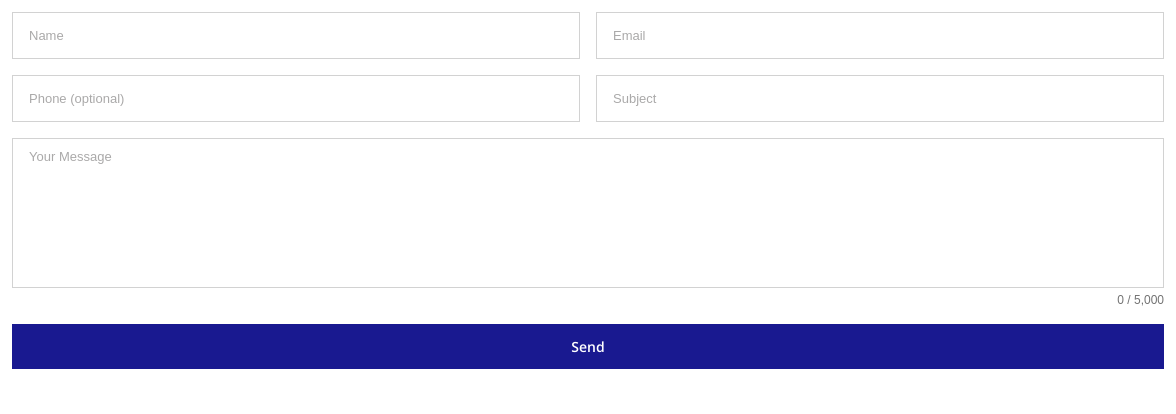
ContactForm › shows the email field message from a 400 response and keeps the typed values
This screenshot has width=1176, height=414.
Type "Ali Khan" into the field labelled "Name". click: (296, 36)
box: [12,12,580,59]
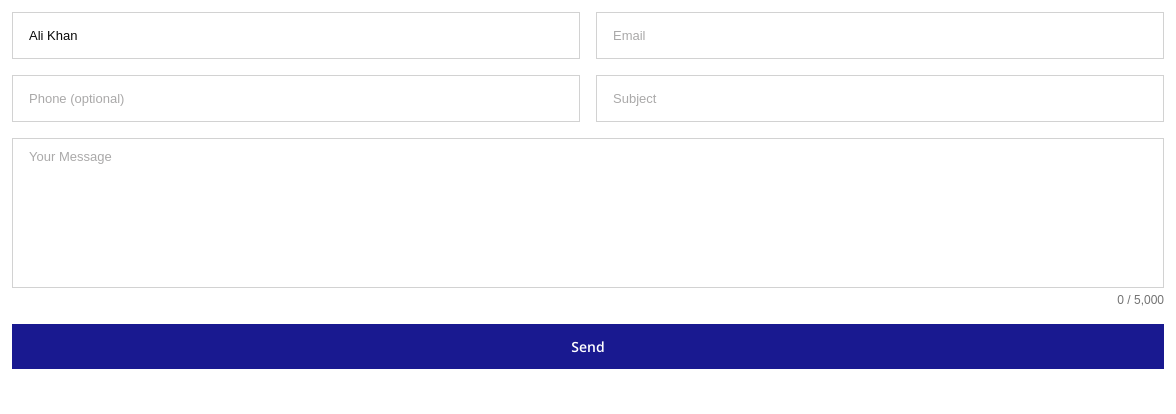
Type "ali@example.com" into the field labelled "Email". click: (880, 36)
box: [596,12,1164,59]
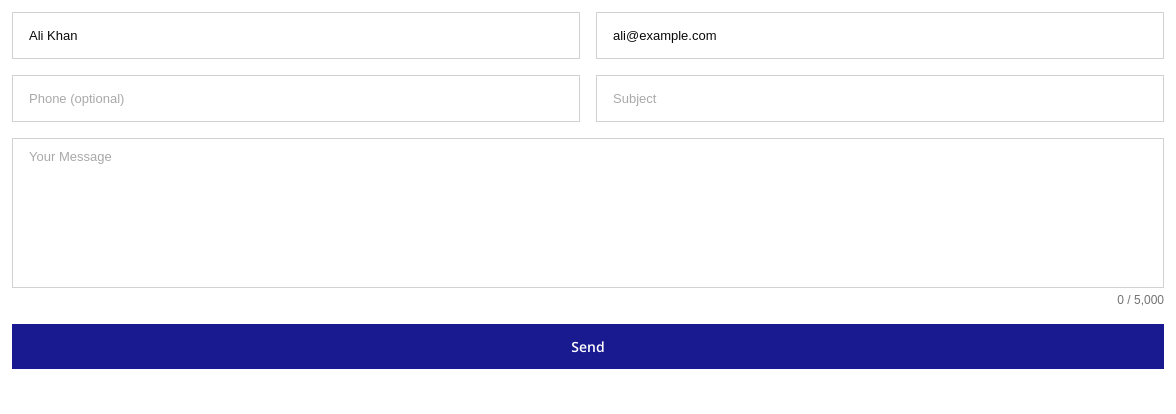
Type "Admission" into the field labelled "Subject". click: (880, 98)
box: [596,75,1164,122]
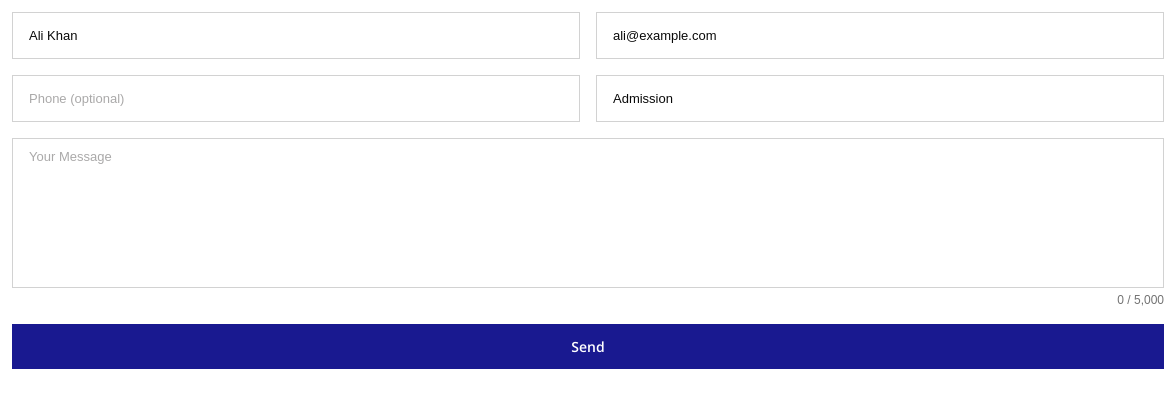
Type "Hello there." into the text box labelled "Your Message". click: (588, 213)
box: [12,138,1164,288]
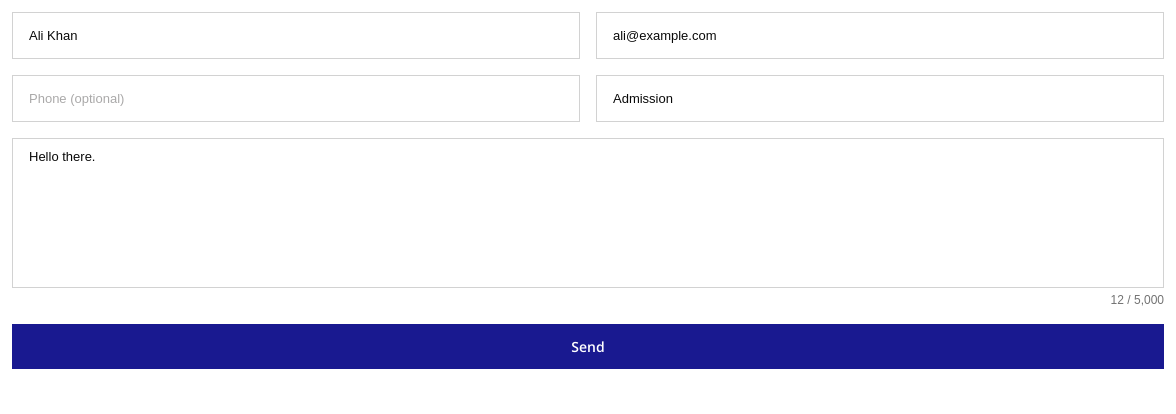
Click the button "Send". click: (588, 346)
box: [12,324,1164,369]
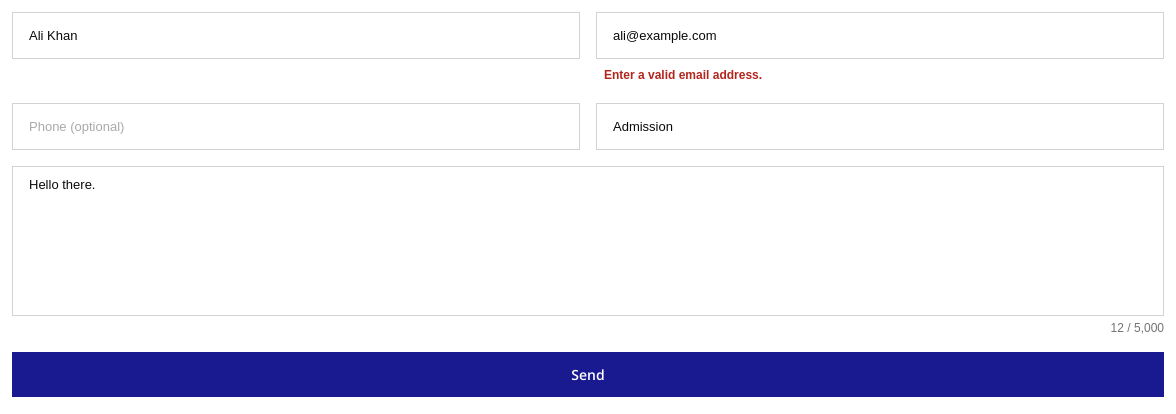
Expected: the text "Enter a valid email address." is shown, [596,63,1164,87]
